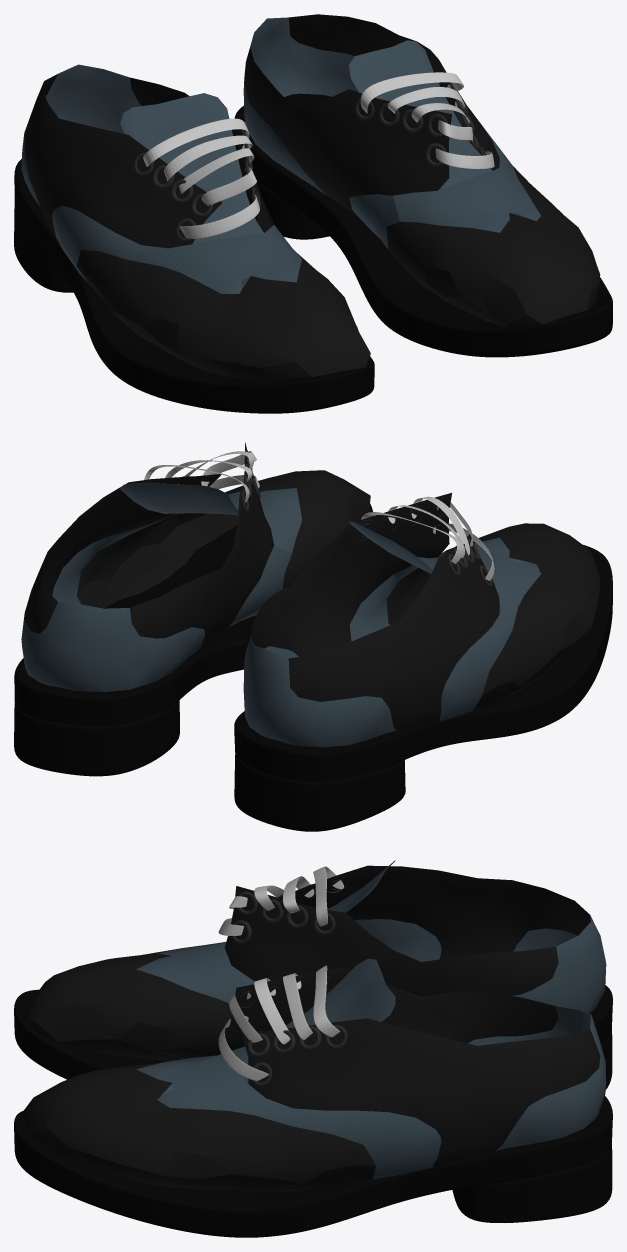
The picture shows the model from 3 angles, top to bottom: view 1: azimuth 30°, elevation 25°; view 2: azimuth 150°, elevation 25°; view 3: azimuth 270°, elevation 25°; orthographic projection.
Parts seen in each view (by area): view 1: zapato2.001, zapato2, Plane, Plane.011, Plane.007, Plane.004, Plane.006, Plane.008, Plane.003, Plane.010, Plane.009, Plane.005; view 2: zapato2.001, zapato2, Plane.011, Plane, Plane.010; view 3: zapato2, zapato2.001, Plane, Plane.011, Plane.001, Plane.003, Plane.004, Plane.007, Plane.005, Plane.008, Plane.002.
Boxes of the visible parts, x1,y1,x2,y2 form: zapato2.001: (21, 64, 370, 379); zapato2: (243, 14, 600, 327); Plane: (234, 93, 612, 357); Plane.011: (14, 159, 374, 413); Plane.007: (143, 118, 249, 166); Plane.004: (360, 72, 463, 113); Plane.006: (180, 194, 259, 238); Plane.008: (164, 135, 252, 181); Plane.003: (387, 87, 464, 113); Plane.010: (179, 148, 254, 193); Plane.009: (201, 167, 256, 206); Plane.005: (435, 148, 494, 169); zapato2.001: (243, 493, 600, 747); zapato2: (21, 442, 370, 691); Plane.011: (234, 545, 612, 831); Plane: (14, 503, 373, 776); Plane.010: (411, 496, 469, 555); zapato2: (23, 958, 606, 1190); zapato2.001: (23, 860, 606, 1060); Plane: (14, 1096, 612, 1237); Plane.011: (14, 985, 612, 1089); Plane.001: (254, 978, 290, 1044); Plane.003: (283, 973, 312, 1040); Plane.004: (313, 965, 340, 1037); Plane.007: (313, 866, 343, 926); Plane.005: (218, 1016, 268, 1080); Plane.008: (283, 876, 314, 913); Plane.002: (229, 992, 262, 1042).
Bounding box in the file's own units: 390 × 176 × 447.
